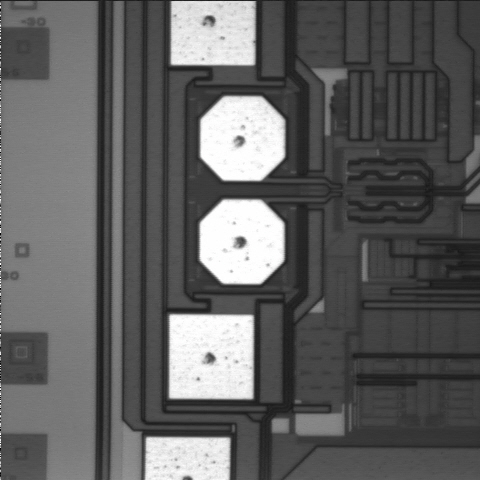pad: (200, 96, 285, 181), (200, 199, 284, 284), (169, 314, 253, 399)
